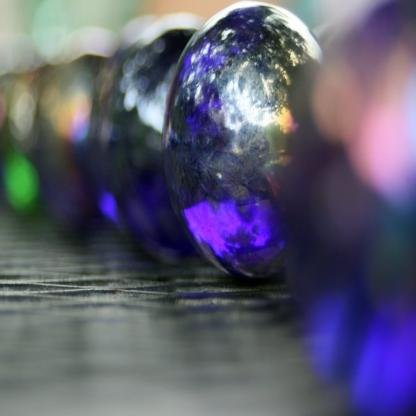Ball: (163, 0, 321, 282), (112, 16, 198, 253)
